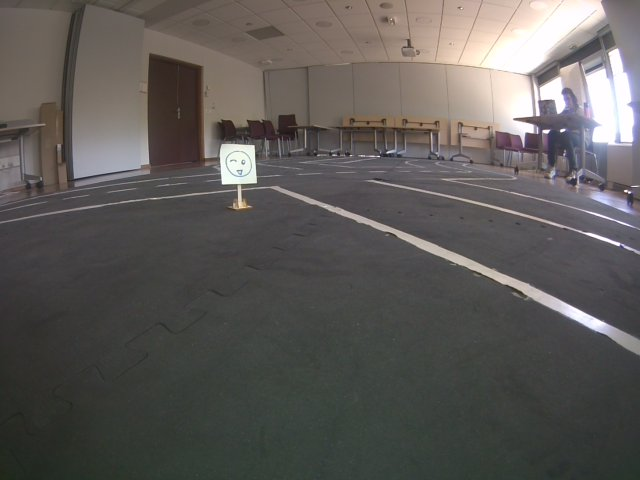Smiley: (220, 142, 257, 185)
